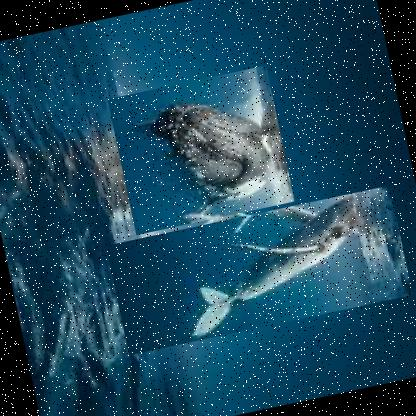blue_whale: (105, 183, 413, 354), (107, 63, 296, 233)
